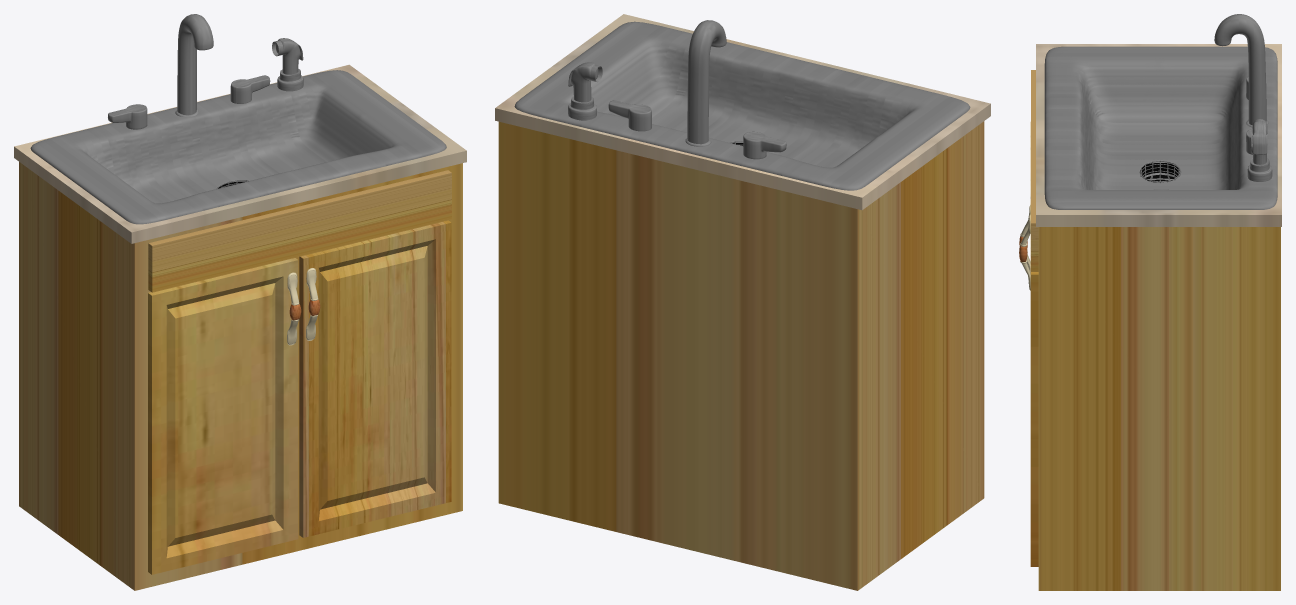
The model's file is kitchenSinkWithMarble.glb.
3 renders of one model, left to right at view 1: azimuth 30°, elevation 25°; view 2: azimuth 150°, elevation 25°; view 3: azimuth 270°, elevation 25°, orthographic. The views are drawn at different scales.
Visible parts, largest first — view 1: kitchenSinkWithMarble; view 2: kitchenSinkWithMarble; view 3: kitchenSinkWithMarble.
Boxes of the visible parts, x1=… form: kitchenSinkWithMarble: x1=14, y1=14, x2=466, y2=590; kitchenSinkWithMarble: x1=495, y1=14, x2=990, y2=590; kitchenSinkWithMarble: x1=1019, y1=14, x2=1281, y2=590.
Bounding box in the file's own units: 0.909 × 1.21 × 0.5893.
6 materials, 4 textured.
